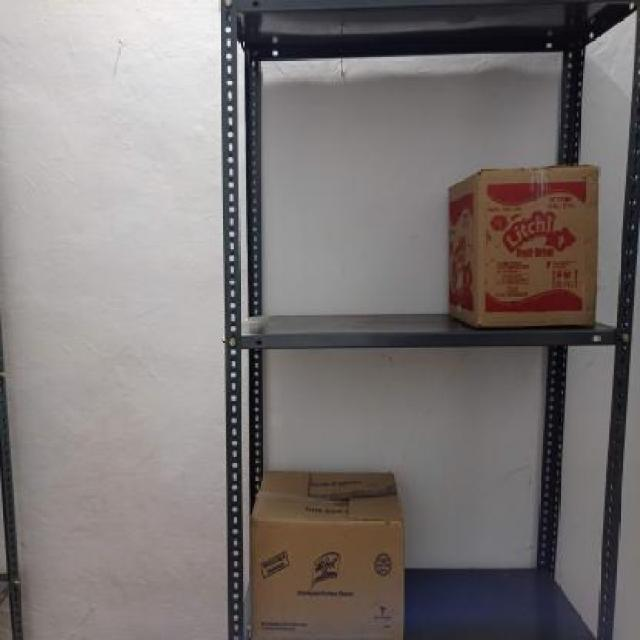box: (472, 162, 598, 327), (250, 521, 403, 640)
